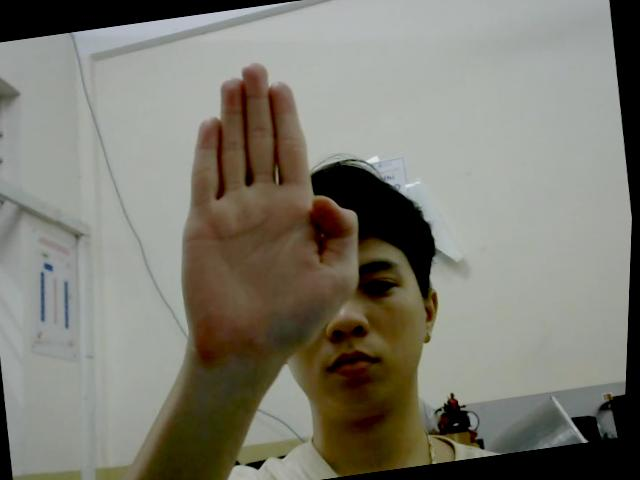B: (150, 49, 381, 365)
